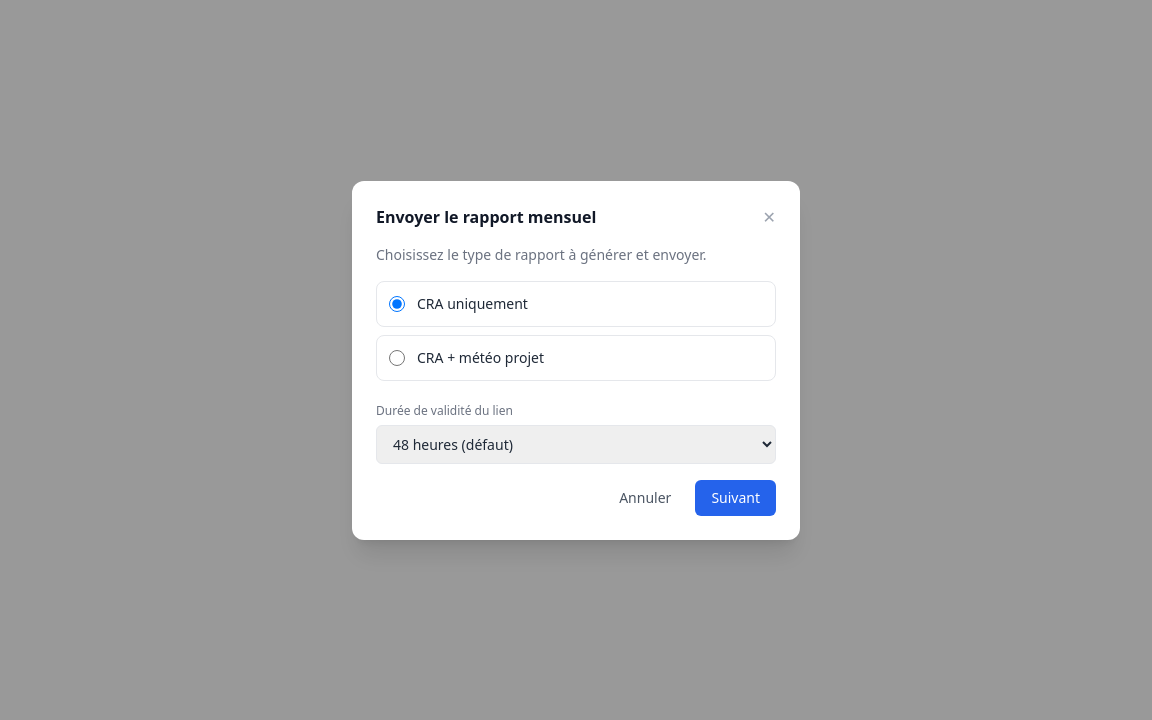
Test case: SendReportModal › "Retour" on step 2 goes back to step 1
Click the button "Suivant": (736, 498) [695,480,776,516]
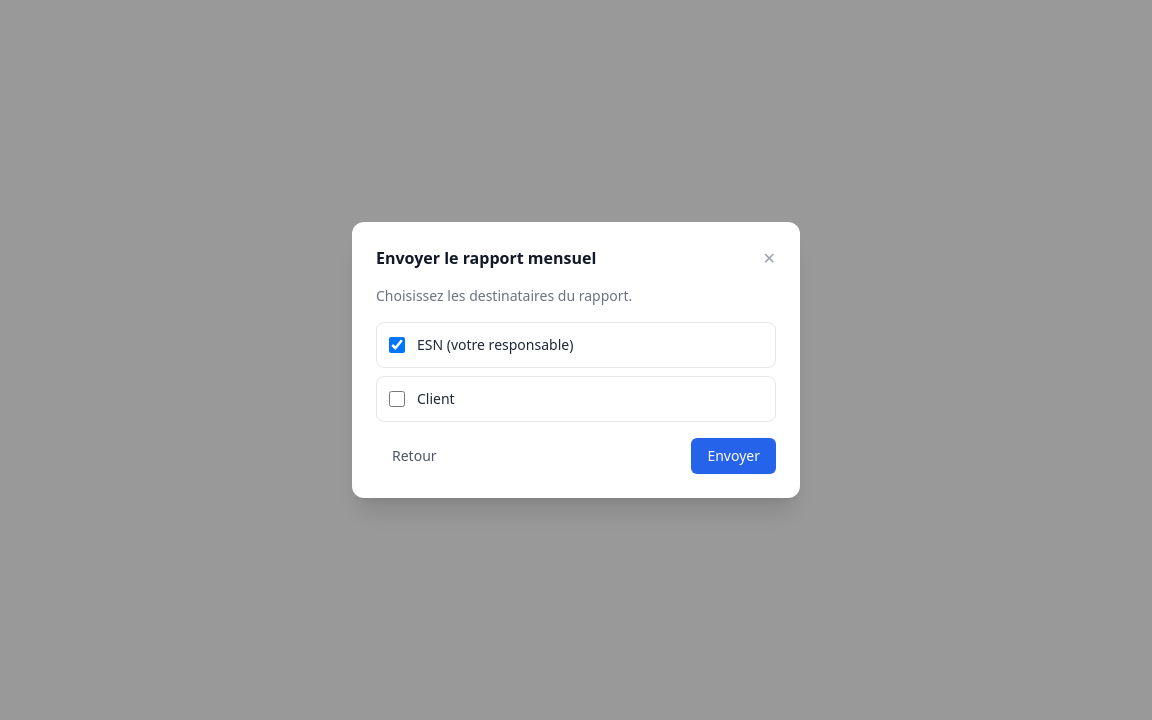
Click the button "Retour": (414, 456) [376,438,453,474]
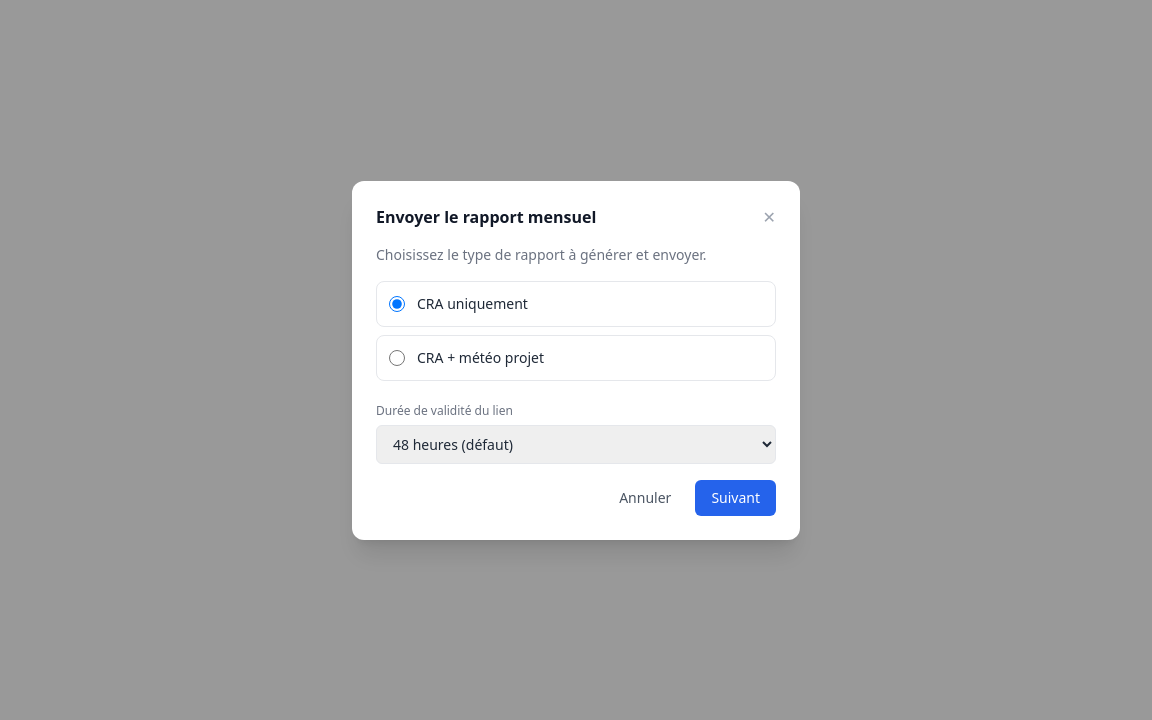
expect the radio button labelled "CRA uniquement" is shown: met, box [389,296,405,312]
